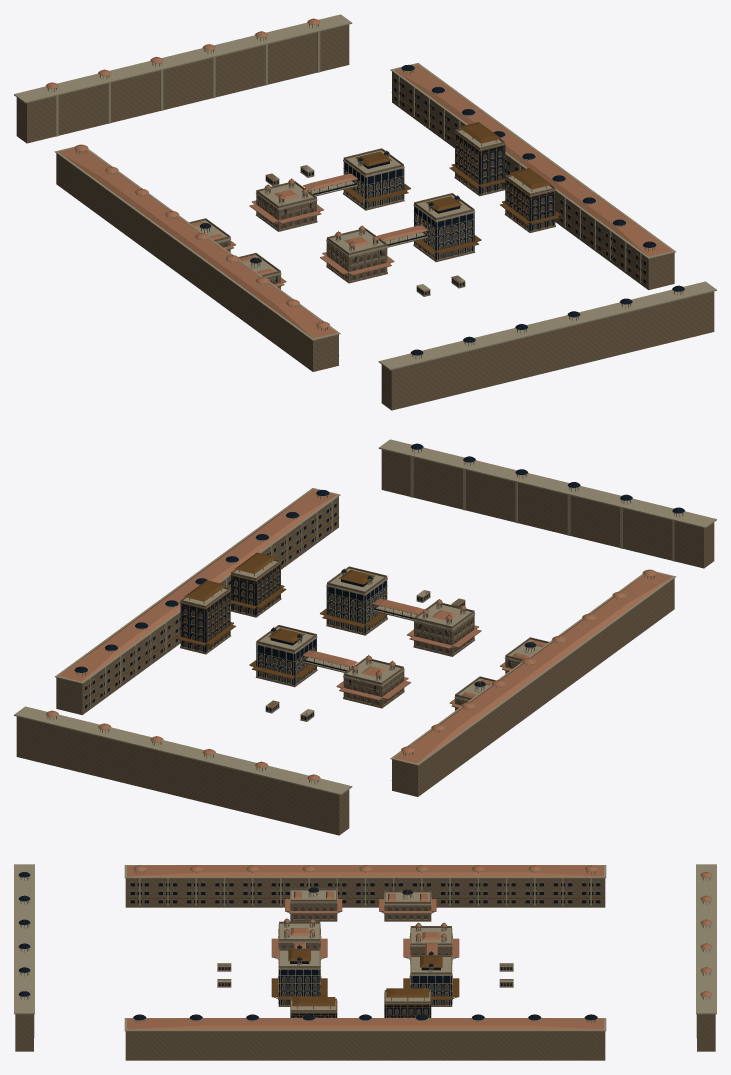
The model's file is sangam-district.glb.
3 renders of one model, top to bottom at view 1: azimuth 30°, elevation 25°; view 2: azimuth 150°, elevation 25°; view 3: azimuth 270°, elevation 25°, orthographic. The views are drawn at different scales.
Visible parts, largest first — view 1: VISTA_SouthCourt, VISTA_NorthCourt, VISTA_West, VISTA_East, BASE_Block_6, BASE_Block_3, BASE_Block_2, BASE_Block_7, SOLID_Overhead_1, SOLID_Overhead_0, BASE_Block_1, SOLID_Overhead_3 (+6 smaller); view 2: VISTA_NorthCourt, VISTA_SouthCourt, VISTA_West, VISTA_East, BASE_Block_3, BASE_Block_6, BASE_Block_2, BASE_Block_7, SOLID_Overhead_1, SOLID_Overhead_0, BASE_Block_1, SOLID_Overhead_2 (+6 smaller); view 3: VISTA_East, VISTA_West, VISTA_SouthCourt, VISTA_NorthCourt, BASE_Block_3, SOLID_Overhead_3, SOLID_Overhead_1, SOLID_Overhead_2, SOLID_Overhead_0, SOLID_Overhead_5, SOLID_Overhead_4, BASE_Block_2 (+6 smaller).
Part boxes in pixels (x1=…): VISTA_SouthCourt: x1=14, y1=14, x2=352, y2=143; VISTA_NorthCourt: x1=378, y1=281, x2=716, y2=410; VISTA_West: x1=54, y1=144, x2=340, y2=371; VISTA_East: x1=390, y1=63, x2=675, y2=290; BASE_Block_6: x1=454, y1=132, x2=505, y2=196; BASE_Block_3: x1=413, y1=204, x2=475, y2=262; BASE_Block_2: x1=343, y1=160, x2=404, y2=210; BASE_Block_7: x1=504, y1=178, x2=555, y2=232; SOLID_Overhead_1: x1=320, y1=225, x2=394, y2=275; SOLID_Overhead_0: x1=249, y1=178, x2=323, y2=223; BASE_Block_1: x1=326, y1=239, x2=387, y2=283; SOLID_Overhead_3: x1=414, y1=193, x2=481, y2=254; VISTA_NorthCourt: x1=378, y1=439, x2=716, y2=568; VISTA_SouthCourt: x1=14, y1=706, x2=352, y2=835; VISTA_West: x1=390, y1=569, x2=676, y2=796; VISTA_East: x1=55, y1=488, x2=340, y2=715; BASE_Block_3: x1=326, y1=578, x2=387, y2=635; BASE_Block_6: x1=180, y1=590, x2=230, y2=654; BASE_Block_2: x1=255, y1=636, x2=317, y2=687; BASE_Block_7: x1=230, y1=562, x2=281, y2=617; SOLID_Overhead_1: x1=407, y1=599, x2=481, y2=648; SOLID_Overhead_0: x1=336, y1=655, x2=410, y2=700; BASE_Block_1: x1=413, y1=613, x2=475, y2=656; SOLID_Overhead_2: x1=249, y1=625, x2=316, y2=679; VISTA_East: x1=124, y1=1014, x2=606, y2=1060; VISTA_West: x1=124, y1=865, x2=606, y2=907; VISTA_SouthCourt: x1=696, y1=864, x2=716, y2=1051; VISTA_NorthCourt: x1=14, y1=864, x2=34, y2=1051; BASE_Block_3: x1=278, y1=951, x2=320, y2=1006; SOLID_Overhead_3: x1=271, y1=944, x2=327, y2=999; SOLID_Overhead_1: x1=271, y1=918, x2=327, y2=959; SOLID_Overhead_2: x1=403, y1=951, x2=459, y2=999; SOLID_Overhead_0: x1=403, y1=922, x2=459, y2=959; SOLID_Overhead_5: x1=285, y1=887, x2=342, y2=914; SOLID_Overhead_4: x1=379, y1=889, x2=436, y2=914; BASE_Block_2: x1=410, y1=957, x2=452, y2=1006.
Size of the model in its own units: 167 by 23.08 by 299.
Materials: 7 (4 with a texture image).
